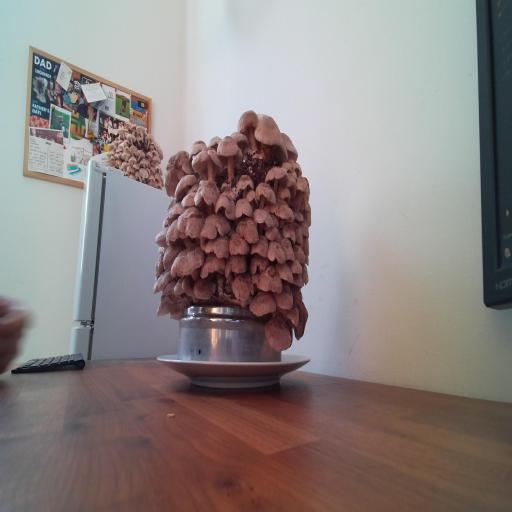Shiitake Mushroom: (149, 142, 205, 200), (206, 126, 253, 184), (181, 137, 235, 187), (259, 307, 298, 362), (224, 263, 263, 311), (189, 170, 225, 220), (173, 197, 208, 245), (257, 154, 295, 197), (154, 231, 190, 274), (166, 165, 204, 204), (229, 212, 267, 247), (269, 277, 300, 319), (171, 243, 205, 281), (243, 286, 282, 319), (288, 297, 313, 343), (229, 168, 261, 203), (174, 181, 208, 213), (274, 167, 305, 202), (254, 114, 284, 149), (288, 172, 313, 213), (195, 249, 230, 278), (236, 106, 259, 150), (146, 267, 178, 297), (258, 262, 285, 297), (165, 217, 194, 249), (265, 196, 299, 223), (279, 124, 301, 165), (251, 200, 276, 236), (219, 250, 251, 278), (226, 124, 255, 154), (182, 134, 212, 161), (269, 258, 300, 284), (214, 189, 238, 221), (254, 177, 277, 210), (153, 292, 183, 317), (200, 214, 231, 238), (162, 197, 190, 222), (192, 274, 215, 304), (271, 139, 294, 168), (274, 304, 302, 327), (178, 271, 200, 300), (278, 233, 297, 266), (286, 279, 306, 310), (289, 239, 309, 269), (242, 185, 264, 212), (205, 235, 230, 258), (299, 201, 318, 229), (284, 156, 306, 179), (247, 253, 271, 274), (229, 232, 250, 255), (267, 240, 286, 263), (250, 234, 269, 257), (276, 180, 293, 204), (235, 197, 253, 218), (151, 255, 167, 278), (292, 219, 305, 247), (288, 207, 308, 224), (154, 224, 168, 248), (160, 279, 179, 296), (162, 195, 178, 214), (282, 222, 297, 242), (268, 209, 282, 230), (265, 225, 281, 242), (168, 307, 186, 322), (181, 191, 196, 207), (208, 135, 223, 150), (289, 258, 303, 274), (250, 270, 261, 290), (173, 278, 184, 296), (302, 236, 310, 257), (293, 273, 304, 288), (300, 221, 309, 238), (281, 161, 292, 171), (158, 246, 167, 256)
